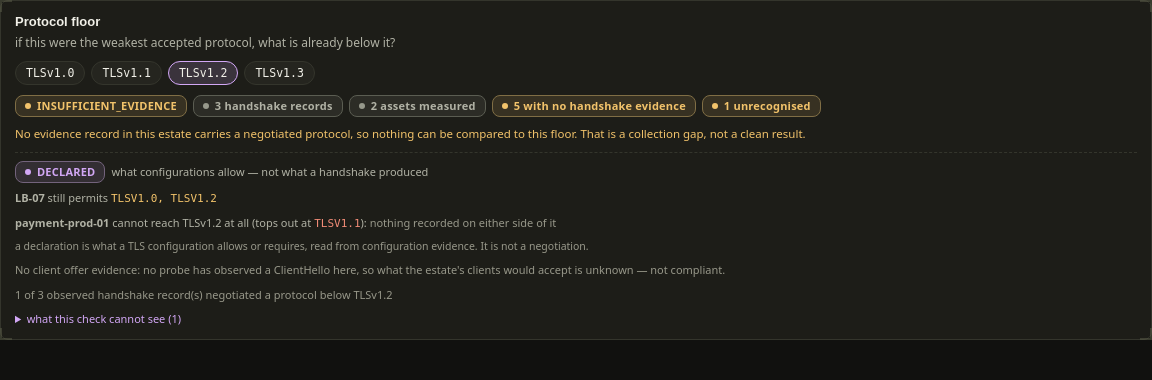
Scenario: prints no-evidence as a collection gap, and says what the check cannot see
The width and height of the screenshot is (1152, 380).
Expected: the text "INSUFFICIENT_EVIDENCE" is shown, [15, 95, 187, 117]
Expected: the text "That is a collection gap, not a clean result" is shown, [15, 126, 806, 141]
What coordinates should you click on to do the following:
click the heading "what this check cannot see (1)"
I would click on:
 (104, 318)
Its box is [27, 311, 181, 326].
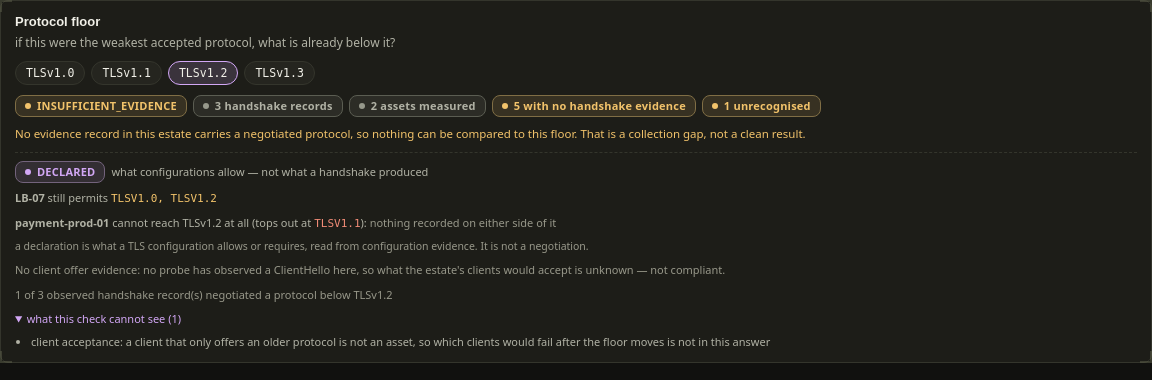
Expected: the list item "client acceptance" is shown, [31, 334, 770, 349]
